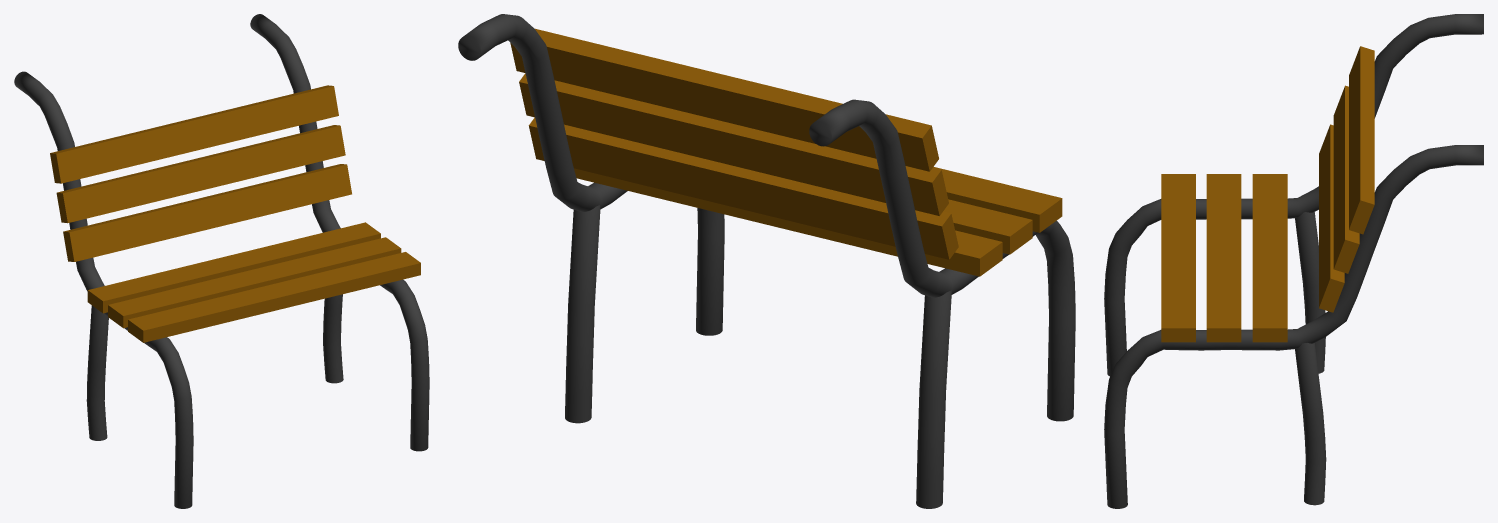
The model's file is kursi taman .fbx.
The picture shows the model from 3 angles, left to right: view 1: azimuth 30°, elevation 25°; view 2: azimuth 150°, elevation 25°; view 3: azimuth 270°, elevation 25°; orthographic projection. The views are drawn at different scales.
Parts seen in each view (by area): view 1: kursi taman; view 2: kursi taman; view 3: kursi taman.
Boxes of the visible parts, box(x1,y1,x2,y2) form: kursi taman: box(14, 14, 429, 508); kursi taman: box(458, 14, 1075, 508); kursi taman: box(1104, 14, 1483, 508).
Bounding box in the file's own units: 137 × 149 × 143.
